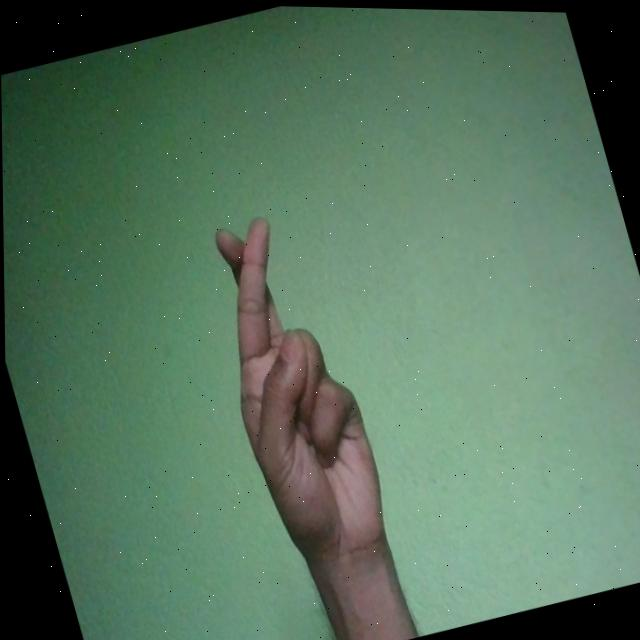Good Luck: (189, 203, 401, 580)
